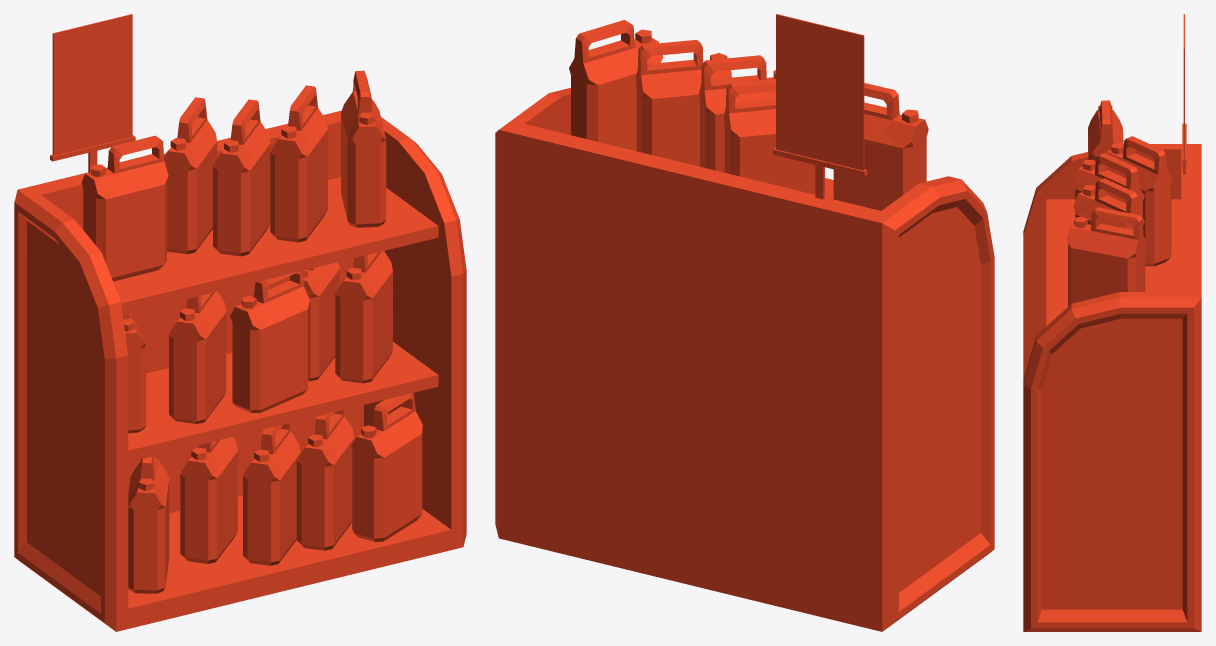
File: SM_Shelf_Metal_C_City.fbx
3 renders of one model, left to right at view 1: azimuth 30°, elevation 25°; view 2: azimuth 150°, elevation 25°; view 3: azimuth 270°, elevation 25°, orthographic. The views are drawn at different scales.
Parts seen in each view (by area): view 1: SM_Shelf_Metal_C_City; view 2: SM_Shelf_Metal_C_City; view 3: SM_Shelf_Metal_C_City.
Part boxes in pixels (x1,y1,x2,y2): SM_Shelf_Metal_C_City: (14, 14, 466, 631); SM_Shelf_Metal_C_City: (495, 14, 994, 631); SM_Shelf_Metal_C_City: (1023, 14, 1201, 631).
Bounding box in the file's own units: 1.06 × 1.48 × 0.5014.
